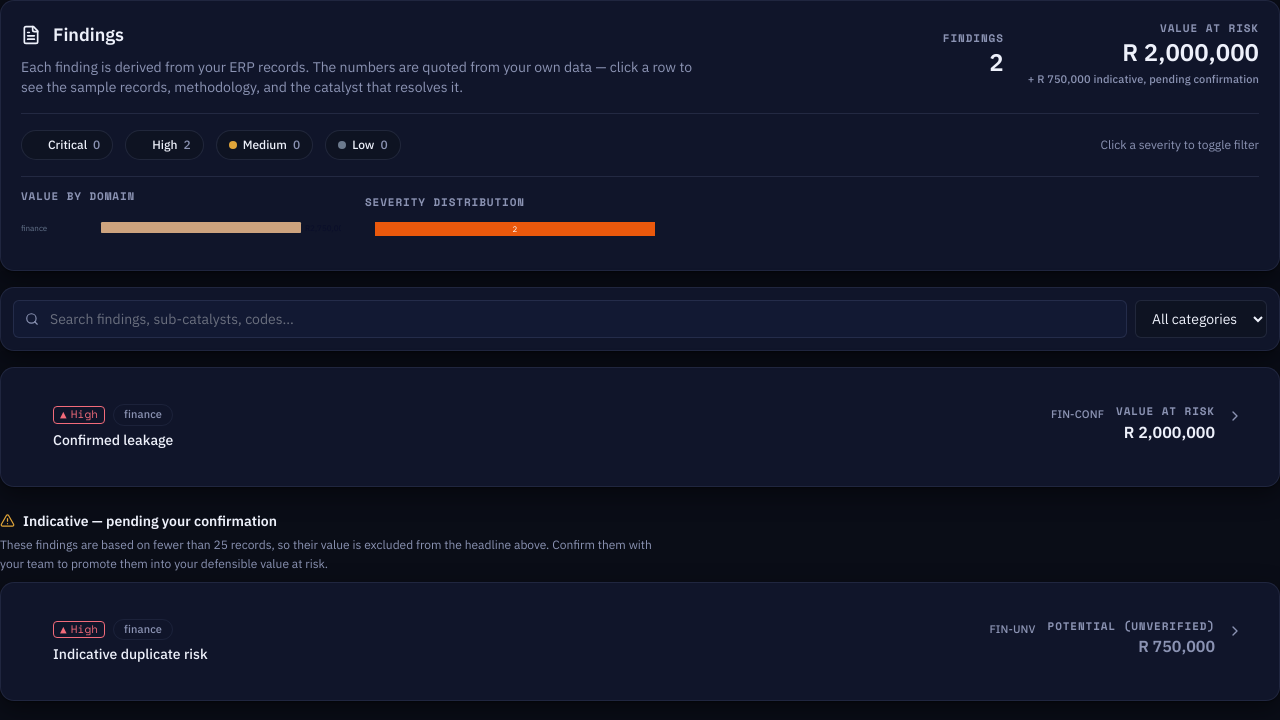
Test: AssessmentFindingsPanel — Option B confidence render › renders 'Indicative — confirm' for the unverified finding
What coordinates should you click on to do the following:
click the text "Indicative duplicate risk"
I would click on:
 (130, 654)
Its box is left=53, top=645, right=208, bottom=663.
(page scrolled)
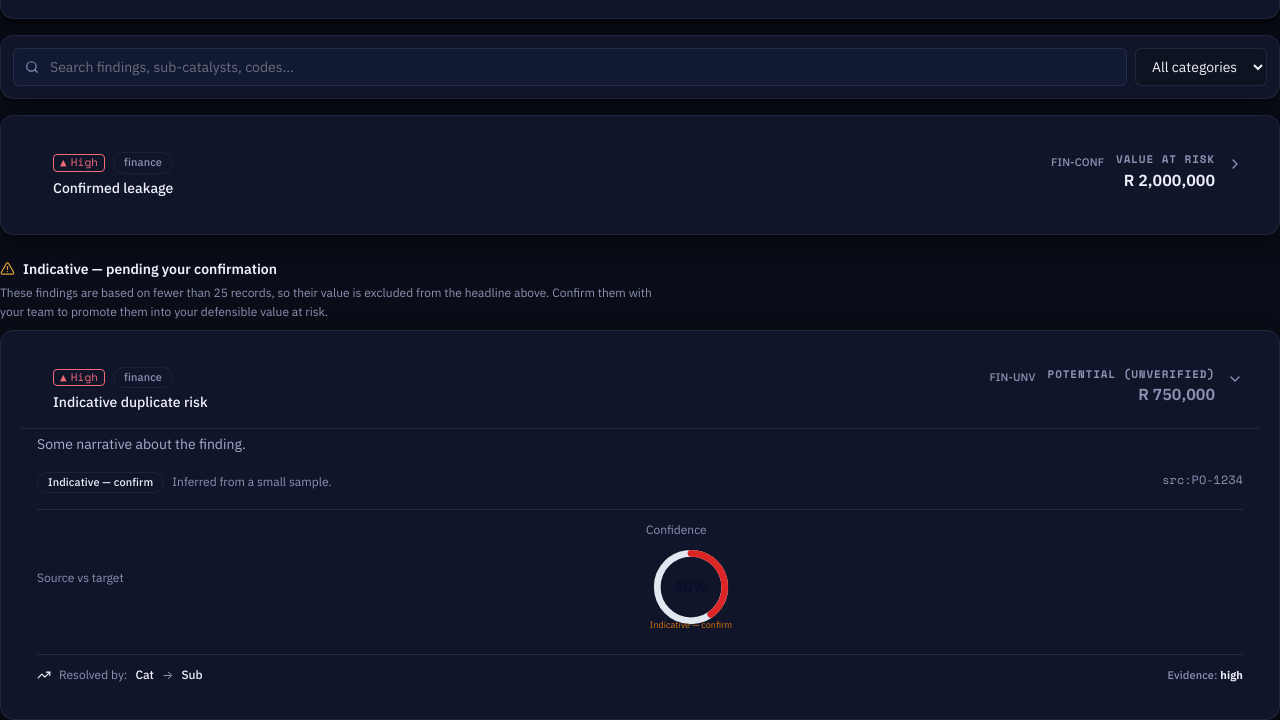
Now the element with test id "finding-confidence-FIN-UNV" shows "Indicative — confirm", box left=48, top=475, right=153, bottom=489
